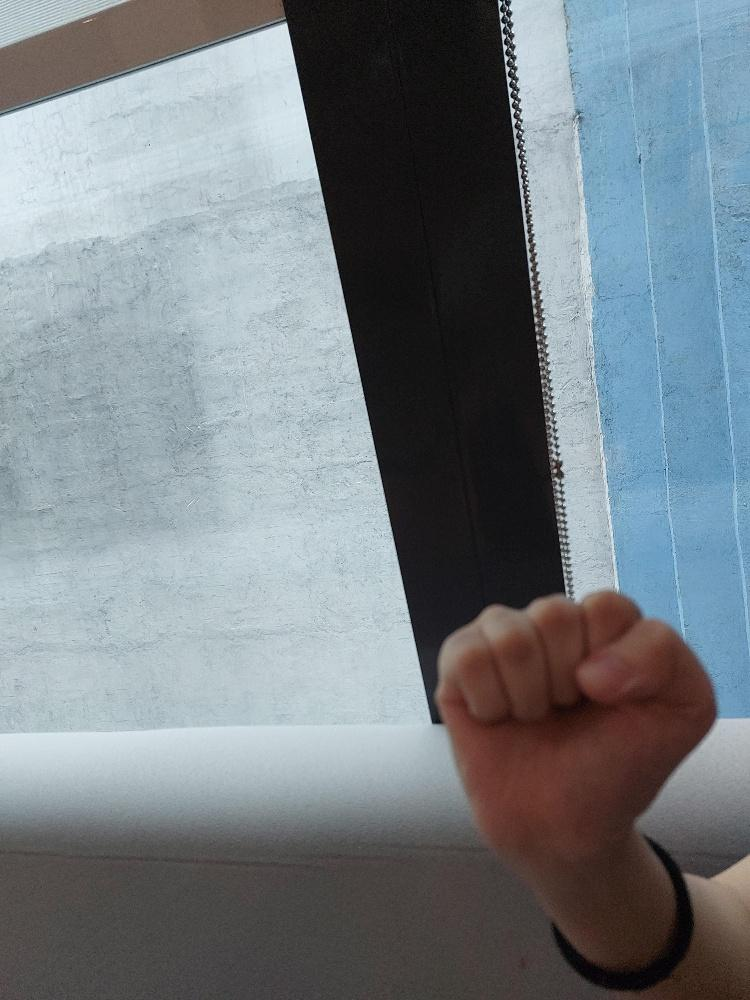s: (436, 587, 718, 847)
